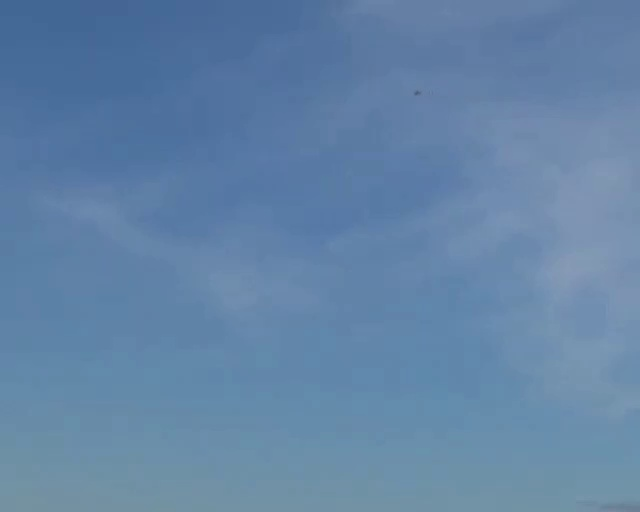AIRPLANE: (413, 89, 422, 95)
